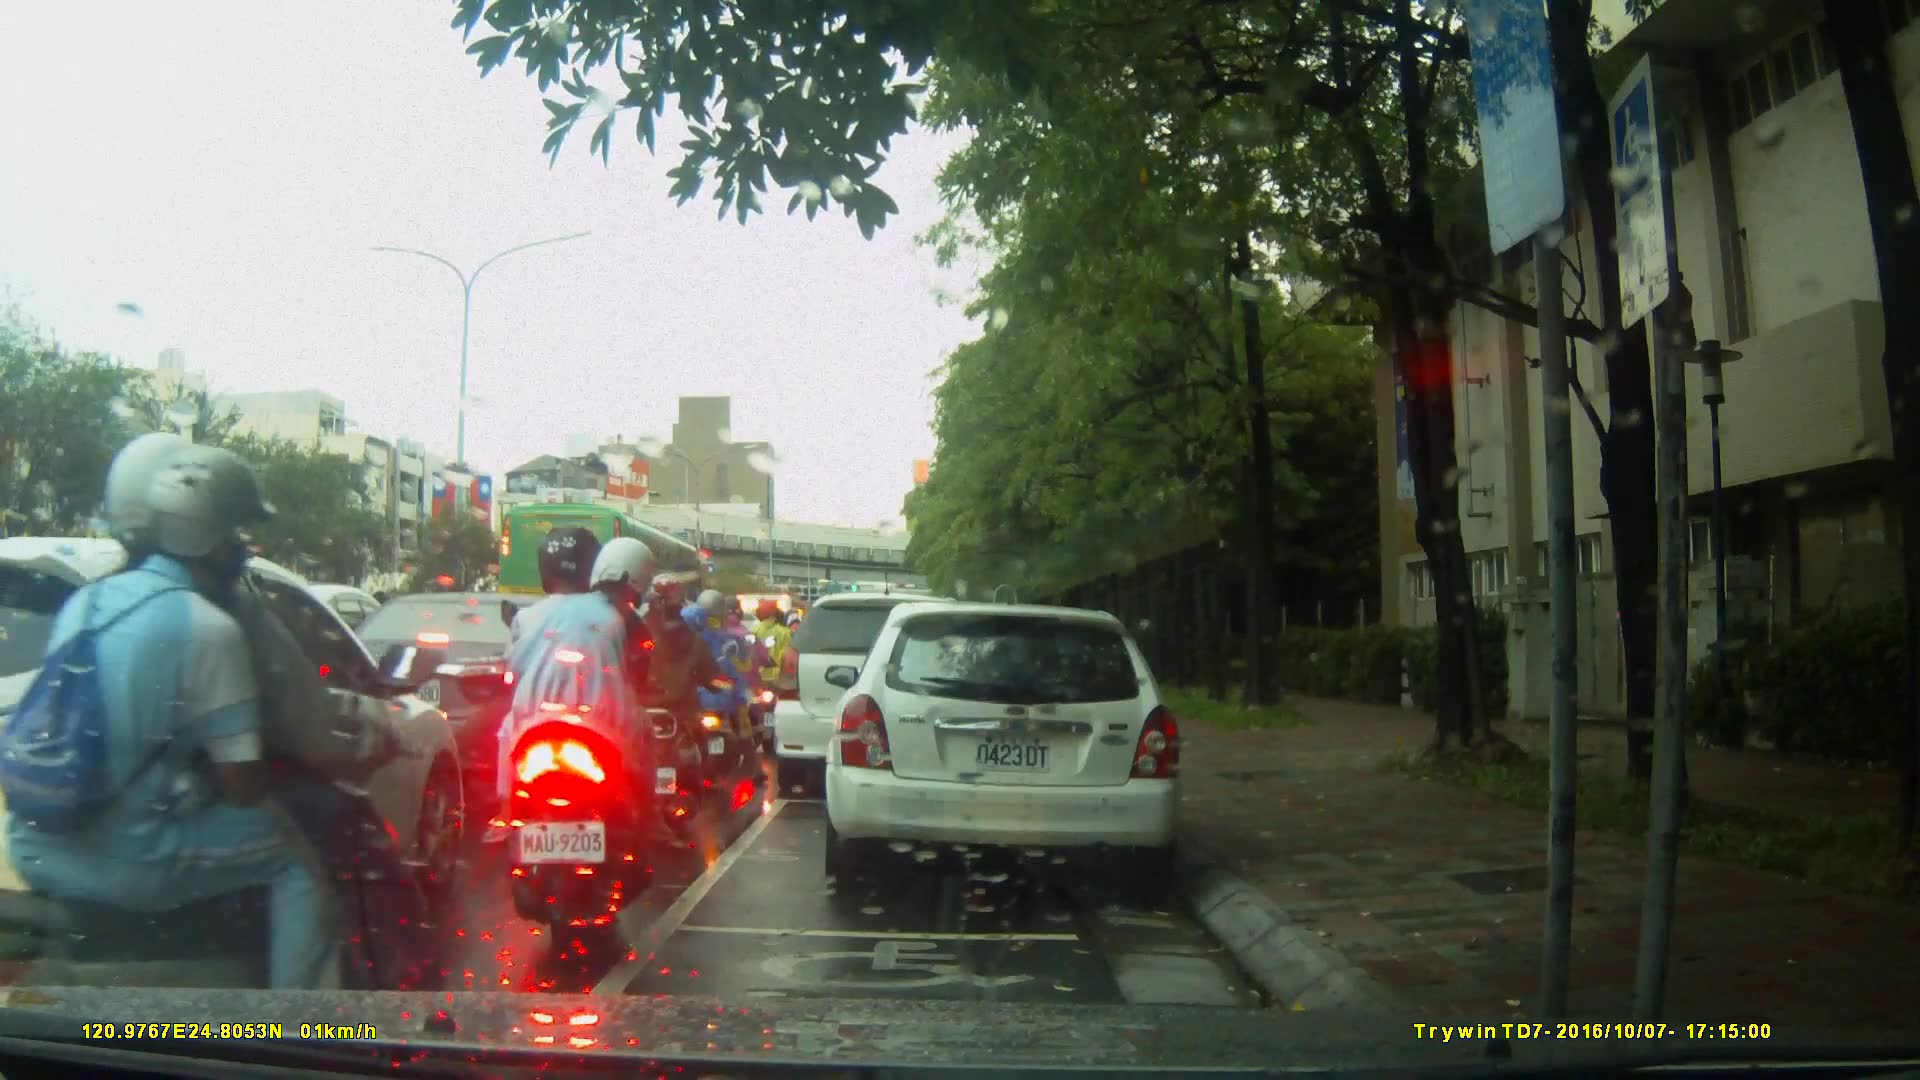rider: (1, 426, 450, 1080), (495, 524, 686, 954), (621, 574, 736, 832), (672, 589, 756, 786), (700, 598, 773, 764), (746, 598, 798, 740)
vehicle: (3, 536, 463, 988), (831, 592, 1196, 897), (312, 589, 629, 776), (772, 590, 999, 803), (495, 500, 711, 636)
